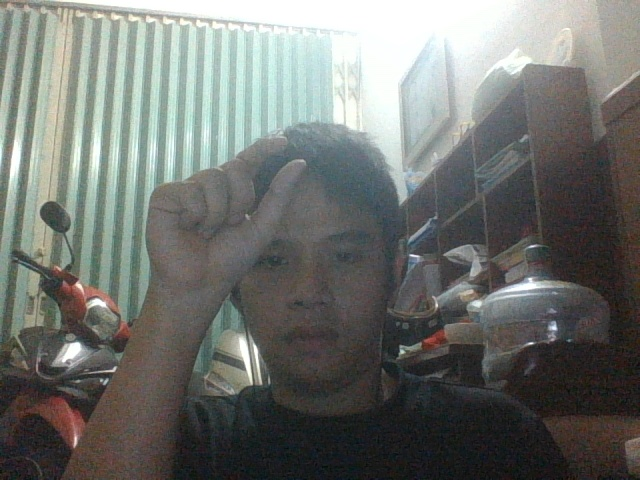waiting: (146, 133, 306, 299)
